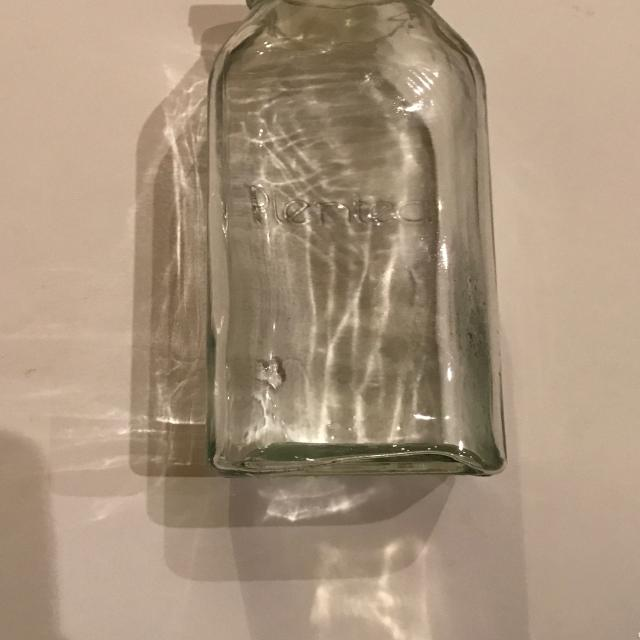glass: (205, 0, 507, 478)
